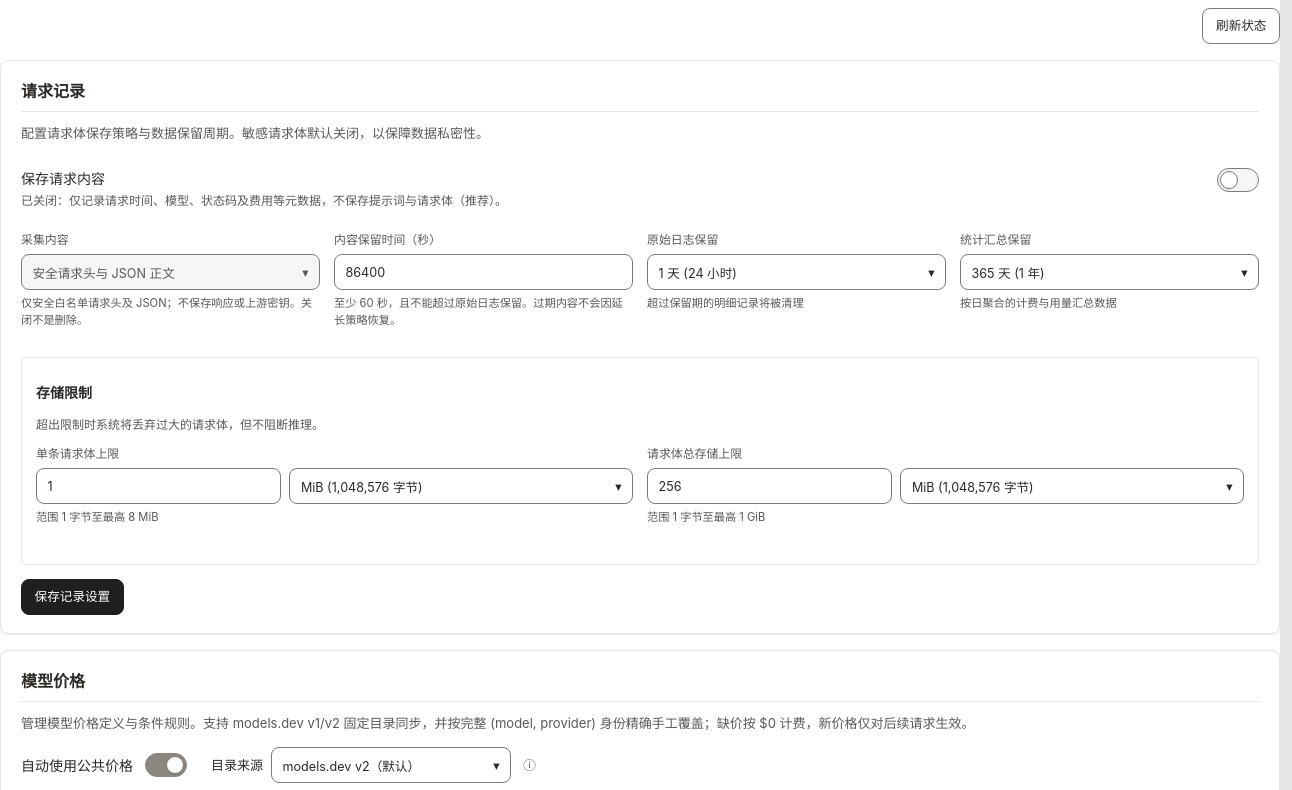
Test: SettingsPage › restores confirmed snapshot and resets dirty state when cancelling drafts
This screenshot has width=1292, height=790.
# Modify General
What coordinates should you click on to do the following:
click the switch named "保存请求内容"
I would click on:
 (1238, 180)
Its box is 1217,168 -> 1259,192.
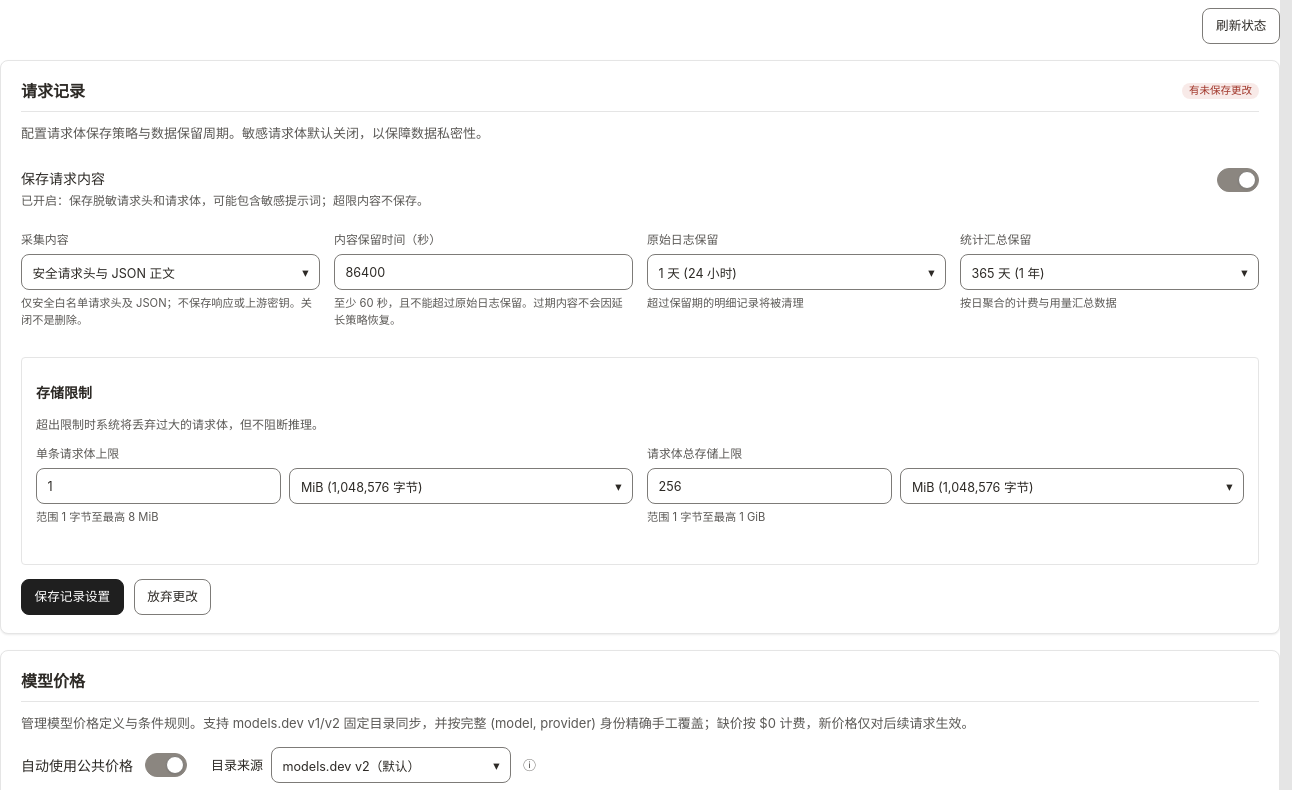
Expected: the button with test id "settings-general-reload" is shown
# Cancel General
What coordinates should you click on to do the following:
click the button with test id "settings-general-reload"
I would click on:
 (173, 597)
Its box is 134,579 -> 211,615.
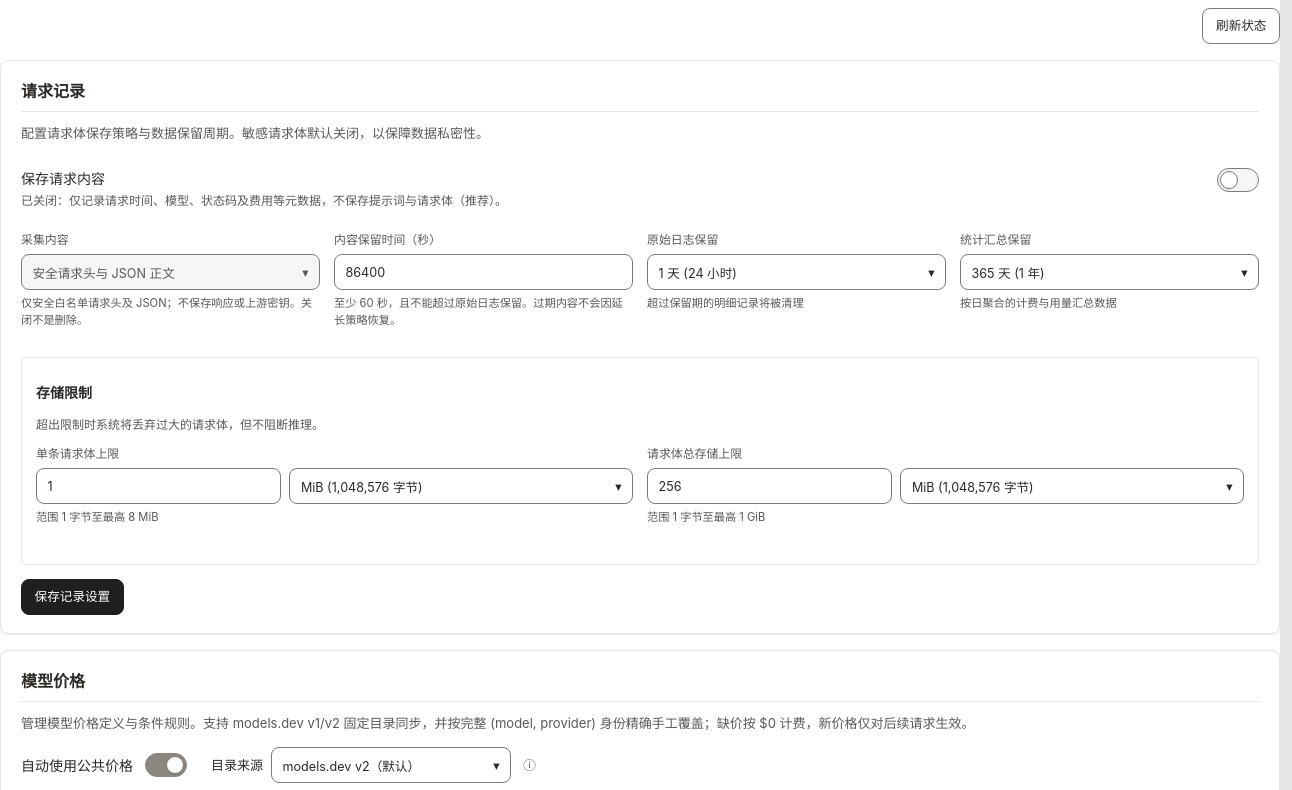
Expected: the button with test id "settings-general-reload" is gone
